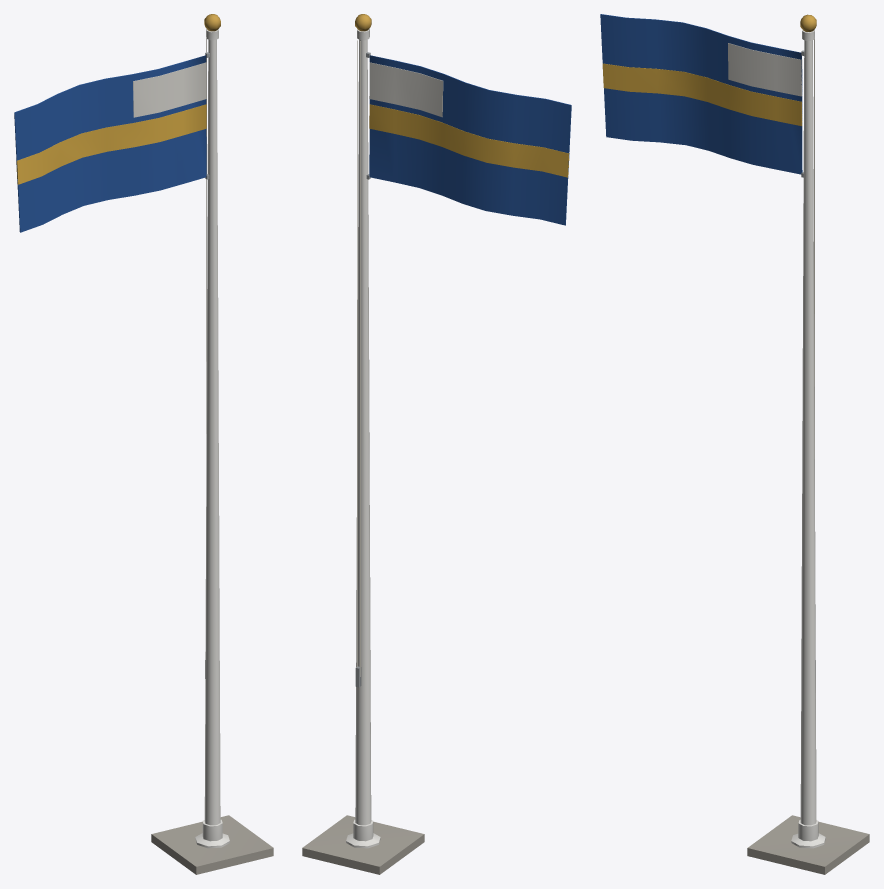
File: flagPole.far.glb
The picture shows the model from 3 angles, left to right: view 1: azimuth 30°, elevation 25°; view 2: azimuth 150°, elevation 25°; view 3: azimuth 330°, elevation 25°; orthographic projection.
Visible parts, largest first — view 1: flagPole_far; view 2: flagPole_far; view 3: flagPole_far.
Part boxes in pixels (x1,y1,x2,y2): flagPole_far: [14, 14, 273, 874]; flagPole_far: [302, 14, 571, 874]; flagPole_far: [600, 14, 869, 874].
Bounding box in the file's own units: 1.87 × 6.17 × 0.6.
